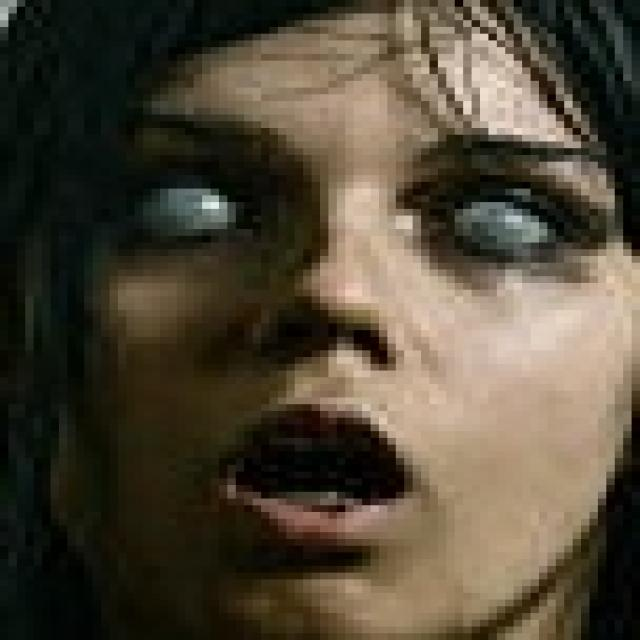Anxiety: (18, 3, 640, 633)
